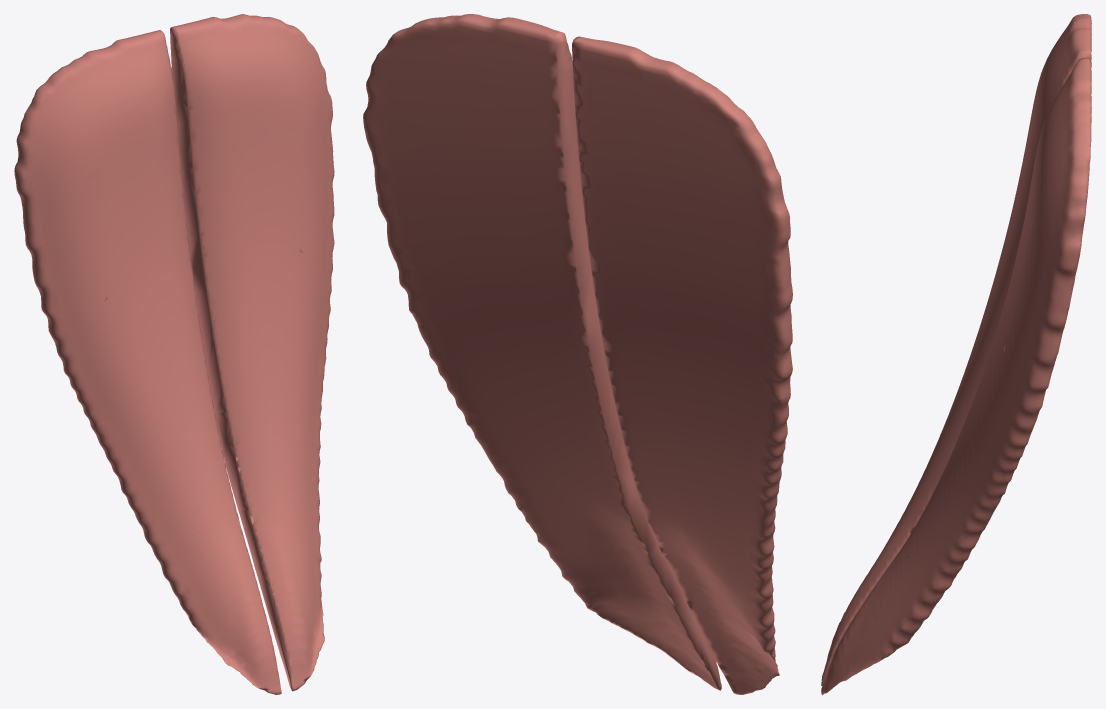
File: procerus.glb
3 views of the same model, side by side, from view 1: azimuth 30°, elevation 25°; view 2: azimuth 150°, elevation 25°; view 3: azimuth 270°, elevation 25° (orthographic). The views are drawn at different scales.
Parts seen in each view (by area): view 1: procerus_R, procerus_L; view 2: procerus_L, procerus_R; view 3: procerus_L, procerus_R.
Boxes of the visible parts, <box> form: procerus_R: <box>14,30,281,694</box>; procerus_L: <box>170,14,334,691</box>; procerus_L: <box>363,14,721,690</box>; procerus_R: <box>572,36,792,694</box>; procerus_L: <box>821,58,1091,694</box>; procerus_R: <box>821,14,1091,686</box>.
Size of the model in its own units: 0.00897 by 0.0158 by 0.00609.
